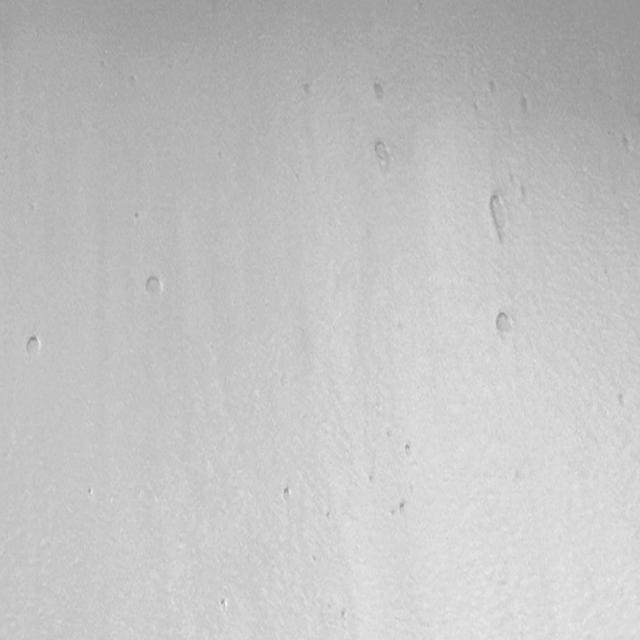pin holes: (480, 190, 514, 252), (492, 308, 519, 342), (370, 138, 394, 174), (23, 333, 44, 362), (143, 274, 166, 300), (368, 79, 389, 106), (518, 96, 534, 120), (279, 484, 296, 506), (483, 76, 500, 98), (402, 440, 418, 460), (614, 391, 630, 411), (299, 82, 315, 101), (321, 506, 334, 525), (338, 606, 351, 624), (218, 595, 232, 611), (398, 501, 410, 517), (85, 486, 96, 500), (132, 210, 143, 223), (368, 472, 374, 485)
